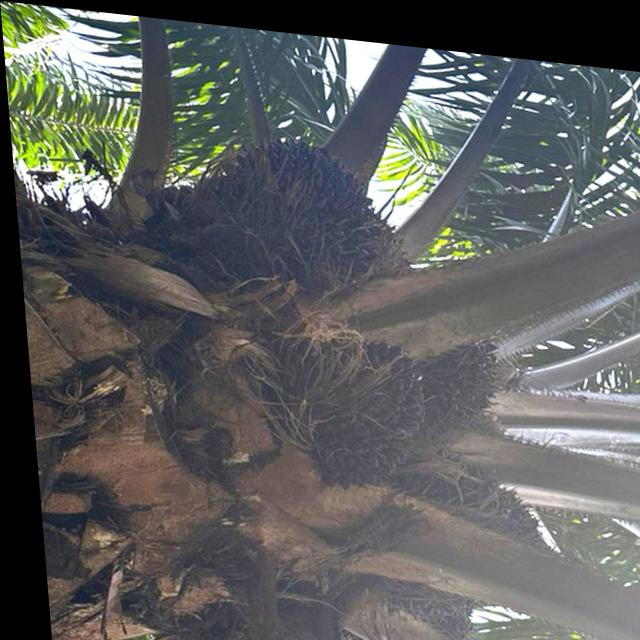almost: (266, 320, 437, 483)
